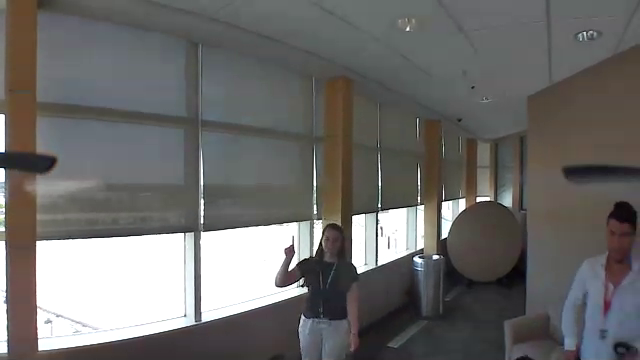up: (281, 230, 303, 259)
